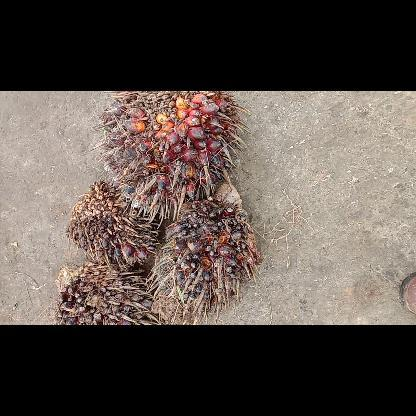TBS abnormal: (158, 182, 258, 324), (66, 181, 156, 269), (55, 264, 153, 324)
TBS masak: (98, 92, 236, 214)
